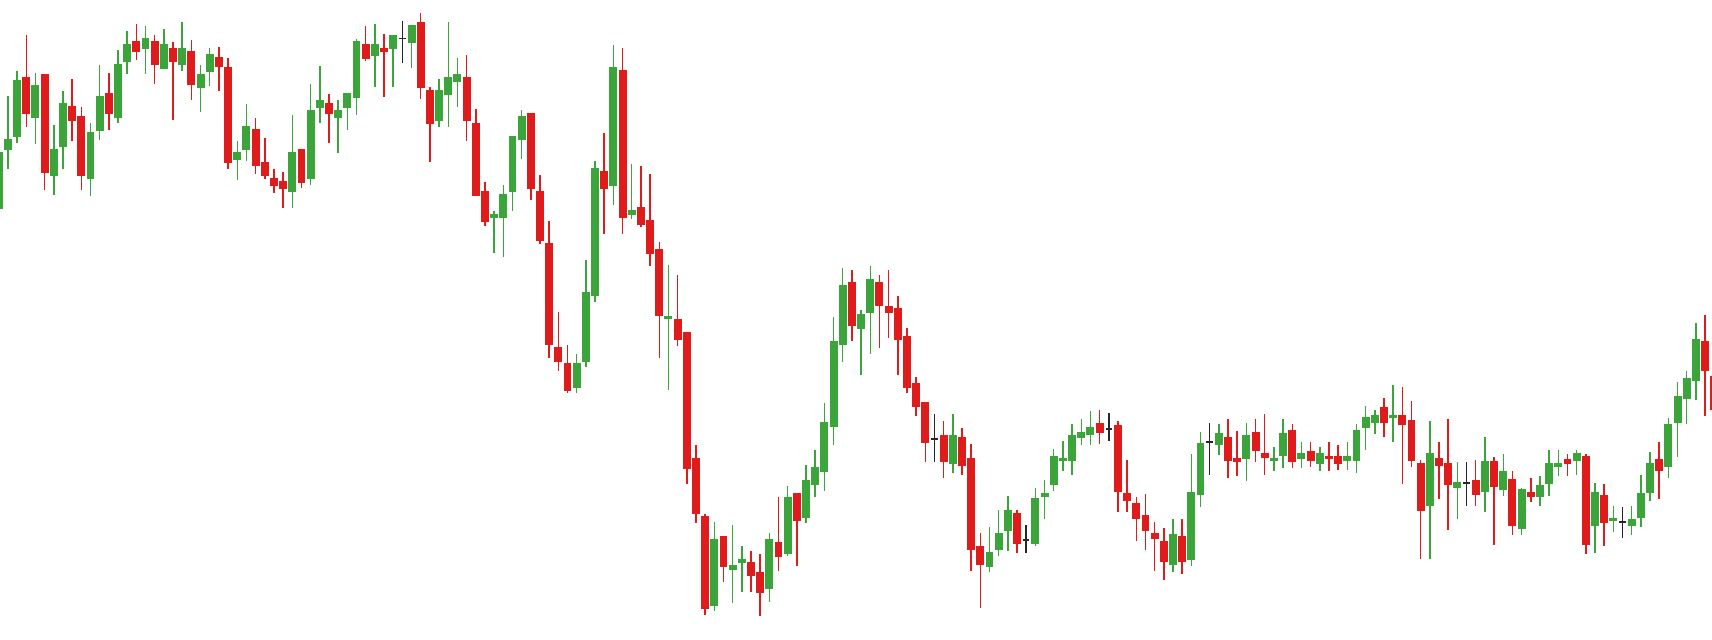buy: (1012, 463, 1179, 593), (1505, 471, 1601, 559)
sell: (516, 32, 632, 281)
